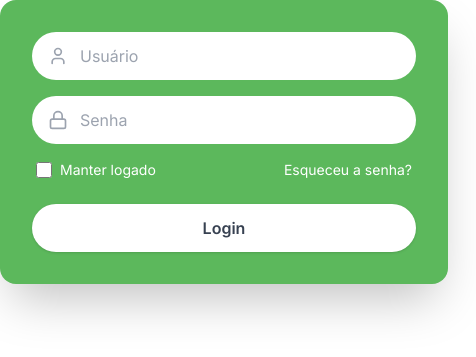
Test: LoginForm › mostra erro de senha inválida
Step 1. Type "teste@email.com" into the field with placeholder "Usuário" → [240, 56], box [80, 44, 400, 68]
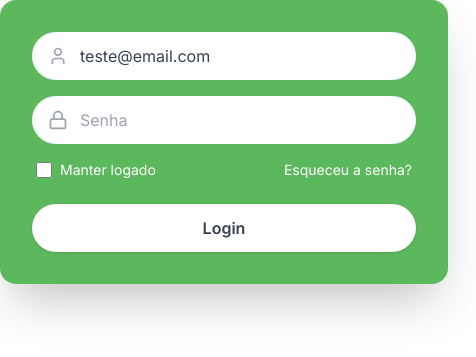
Step 2. Type "123456" into the password field with placeholder "Senha" → [240, 120], box [80, 108, 400, 132]
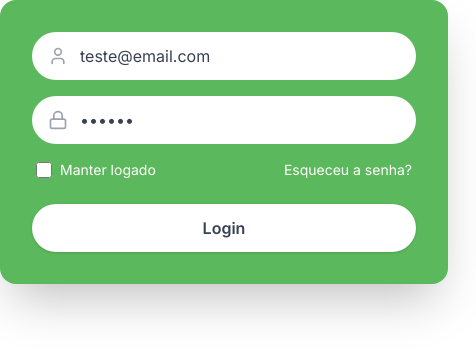
Step 3. Click the button "Login" → [224, 228], box [32, 204, 416, 252]
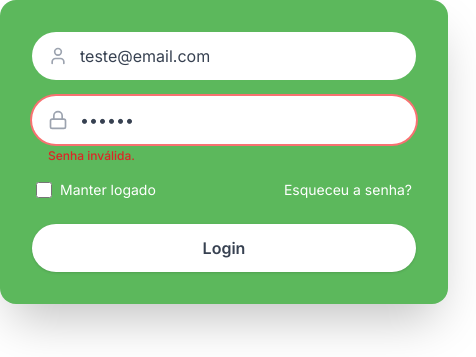
Now the text "Senha inválida." is shown, box [48, 148, 135, 163]
